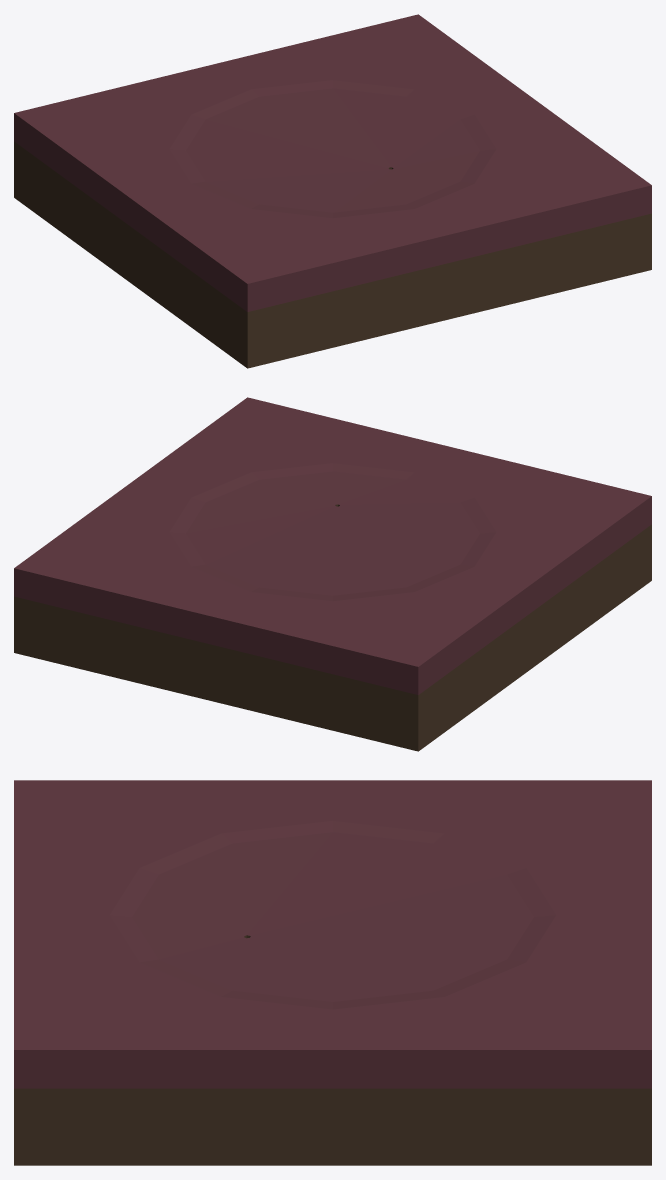
Rendered from tiles-tile-golf-green-circle.glb.
3 views of the same model, one above another, from view 1: azimuth 30°, elevation 25°; view 2: azimuth 150°, elevation 25°; view 3: azimuth 270°, elevation 25° (orthographic). The views are drawn at different scales.
Parts seen in each view (by area): view 1: tile-golf-green-circle; view 2: tile-golf-green-circle; view 3: tile-golf-green-circle.
Part boxes in pixels (bbox=[...]): tile-golf-green-circle: bbox=[14, 14, 651, 368]; tile-golf-green-circle: bbox=[14, 397, 651, 751]; tile-golf-green-circle: bbox=[14, 780, 651, 1165].
Bounding box in the file's own units: 30 × 6 × 30.
